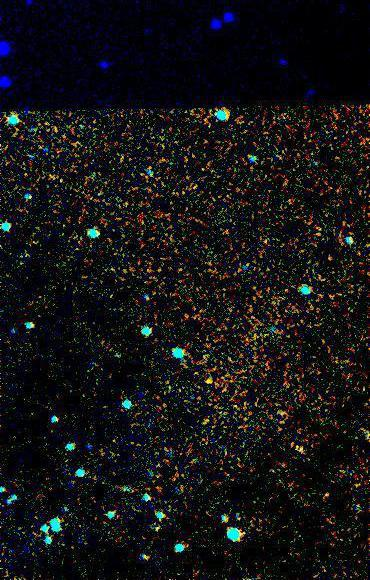star: (194, 363, 224, 393)
